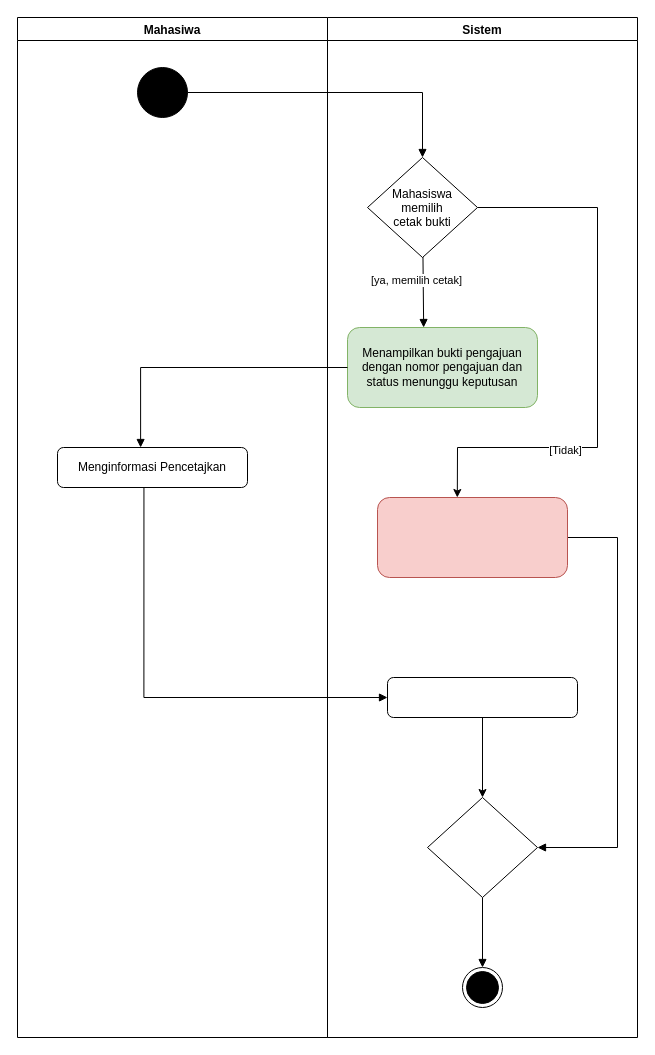
The diagram is 655 pixels wide and 1055 high, and some of its shapes have lost their labels. Here are the shapes that lost their labels. From the top down, the box of each, then its label:
(376, 496, 568, 578): Menytup konfirmasi tanpa mencetak bukti dan pengajuan tetap tersimpan
(386, 676, 578, 718): Mencetak bukti pengajuan
